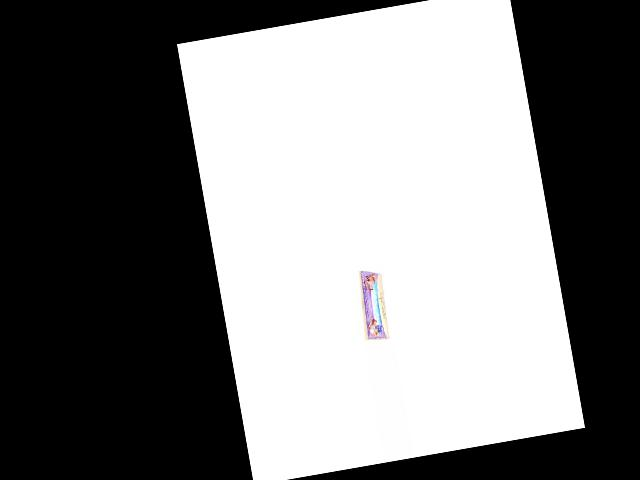chocolate: (352, 264, 389, 343)
